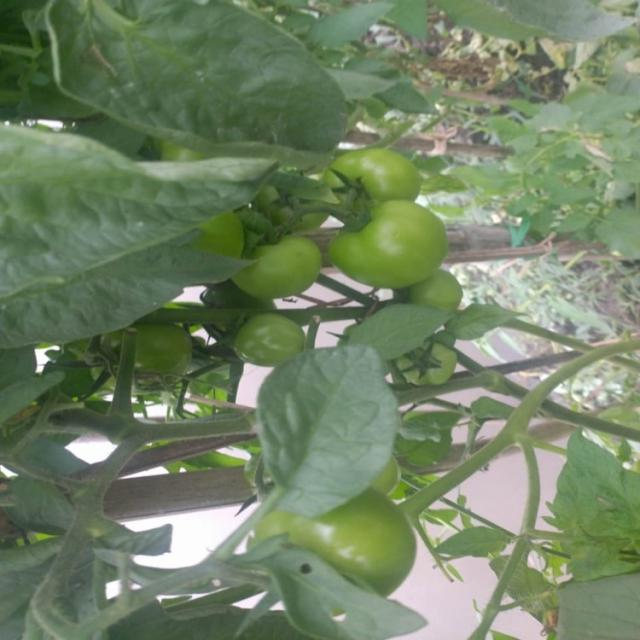tomato: (254, 481, 419, 600), (329, 195, 455, 287), (235, 230, 325, 303), (332, 145, 427, 205), (105, 324, 188, 387), (259, 167, 334, 224), (235, 313, 308, 368), (397, 336, 457, 392), (404, 411, 452, 471), (410, 268, 467, 309)
